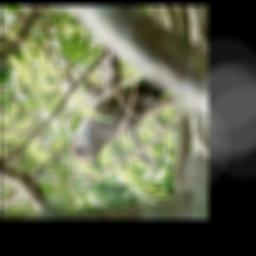Cuckoo: (61, 78, 184, 165)
